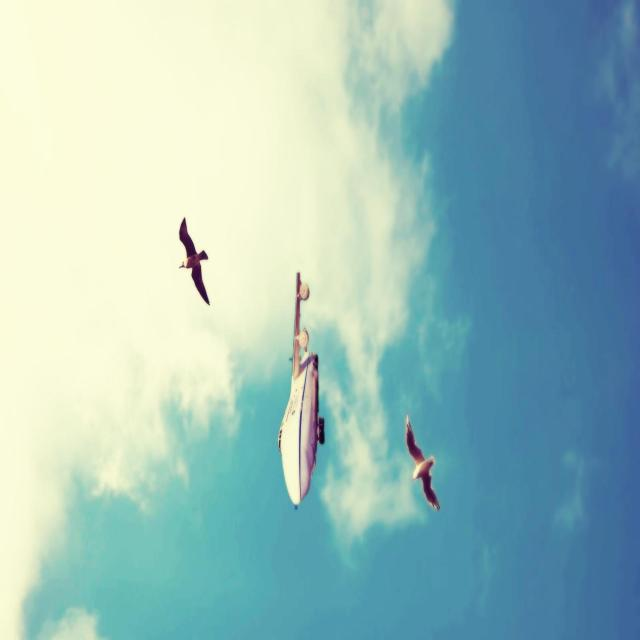airplane: (277, 270, 325, 510)
